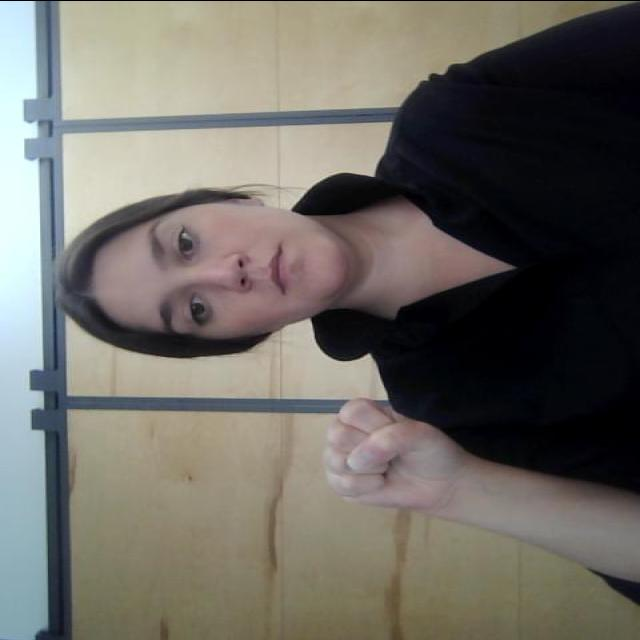Rock: (318, 395, 476, 515)
